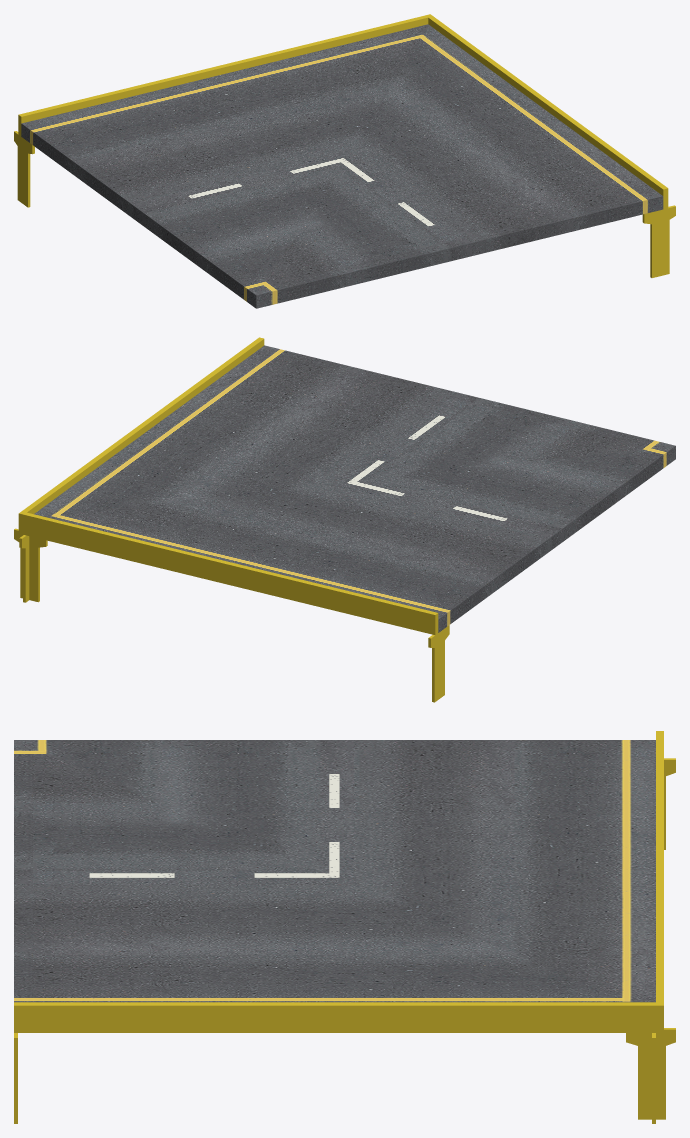
The model's file is Corner.fbx.
3 views of the same model, one above another, from view 1: azimuth 30°, elevation 25°; view 2: azimuth 150°, elevation 25°; view 3: azimuth 270°, elevation 25° (orthographic). The views are drawn at different scales.
Visible parts, largest first — view 1: Bridge road corner.001; view 2: Bridge road corner.001; view 3: Bridge road corner.001.
Part boxes in pixels (bbox=[...]): Bridge road corner.001: bbox=[14, 14, 675, 308]; Bridge road corner.001: bbox=[14, 337, 675, 702]; Bridge road corner.001: bbox=[14, 731, 675, 1123].
Bounding box in the file's own units: 8.25 × 1.61 × 8.25.
